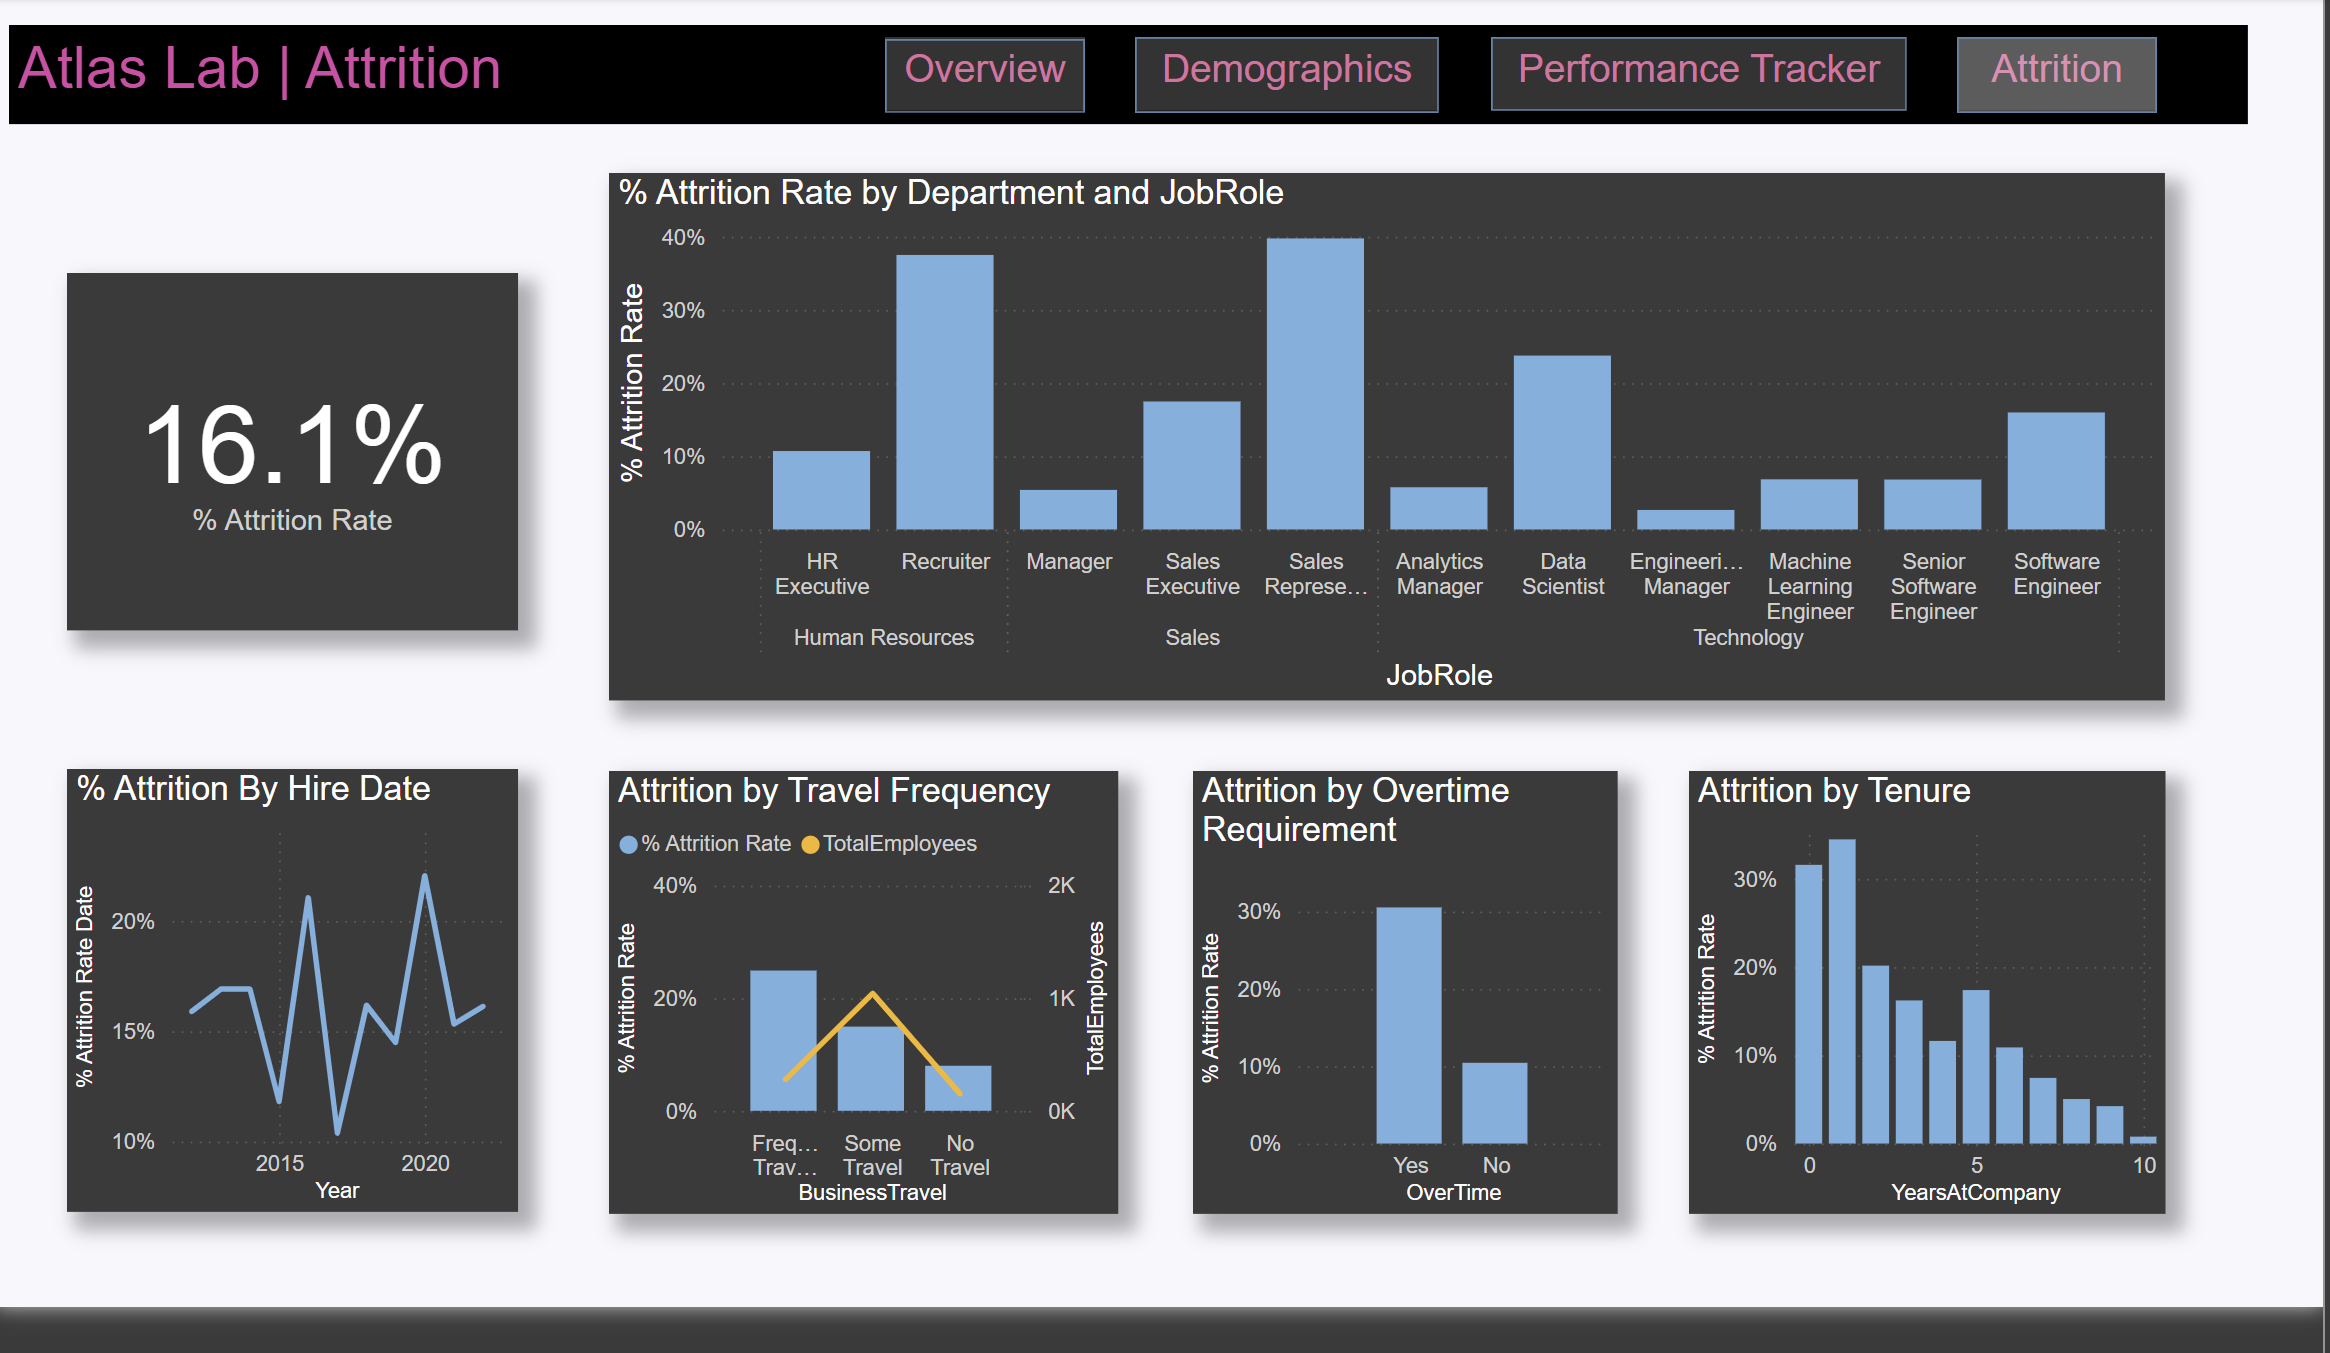

Layout of this report page (visuals, bound fields, positions):
{"tool":"powerbi","page":{"name":"Attrition","canvas":[1280,720],"ordinal":3},"visuals":[{"type":"group","id":"g1","title":"Group 3","box":[822.2,22.4,228.7,40.7],"z":0,"group":"g4"},{"type":"card","fields":{"Values":["_Measures.% Attrition Rate"]},"box":[40,152.2,247.8,196.7],"z":0},{"type":"shape","box":[822.2,22.4,228.7,40.7],"z":1000,"group":"g4"},{"type":"clusteredColumnChart","fields":{"Y":["_Measures.% Attrition Rate"],"Category":["DimEmployee.Department","DimEmployee.JobRole"]},"box":[337.8,96.7,855.6,290],"z":1000},{"type":"lineChart","title":"% Attrition By Hire Date","fields":{"Category":["DimDate.Date.Variation.Date Hierarchy.Year"],"Y":["_Measures.% Attrition Rate Date"]},"box":[40,424.4,247.8,243.3],"z":2000},{"type":"lineStackedColumnComboChart","title":"Attrition by Travel Frequency","fields":{"Y":["_Measures.% Attrition Rate"],"Y2":["_Measures.TotalEmployees"],"Category":["DimEmployee.BusinessTravel"]},"box":[337.8,425.6,280,243.3],"z":3000},{"type":"columnChart","title":"Attrition by Overtime Requirement","fields":{"Y":["_Measures.% Attrition Rate"],"Category":["DimEmployee.OverTime"]},"box":[658.9,425.6,233.3,243.3],"z":4000},{"type":"columnChart","title":"Attrition by Tenure","fields":{"Y":["_Measures.% Attrition Rate"],"Category":["DimEmployee.YearsAtCompany"]},"box":[931.1,425.6,262.2,243.3],"z":5000},{"type":"textbox","box":[7.8,15.6,1231.1,54.4],"z":6000},{"type":"group","id":"g2","title":"Group 1","box":[489.3,21.8,110,41.8],"z":7000},{"type":"textbox","box":[1078.8,21.6,110,40.7],"z":8000,"group":"g5"},{"type":"textbox","box":[489.3,21.8,110,40.7],"z":8000,"group":"g2"},{"type":"group","id":"g3","title":"Group 2","box":[627.2,21.8,167.1,41.8],"z":8000},{"type":"group","id":"g4","title":"Group 4","box":[822.2,22.4,228.7,40.7],"z":9000},{"type":"textbox","box":[822.2,22.4,228.7,40.7],"z":9000,"group":"g1"},{"type":"group","id":"g5","title":"Group 5","box":[1078.8,21.6,110,42.2],"z":10000},{"type":"textbox","box":[627.2,21.8,167.1,40.7],"z":11000,"group":"g3"},{"type":"shape","box":[489.3,22.3,110,40.7],"z":12000,"group":"g2"},{"type":"shape","box":[627.2,21.8,167.1,41.8],"z":12002,"group":"g3"},{"type":"shape","box":[1078.8,22,110,41.8],"z":13000,"group":"g5"}]}

Visuals, with their boxes on the page's 1280x720 design canvas (x1, y1, x2, y2). These are canvas units, not pixel positions in the 2330x1353 screenshot, which may show the page scaled, cropped or inside an application window:
"Group 3" group: locate(822, 22, 1051, 63)
card - _Measures.% Attrition Rate: locate(40, 152, 288, 349)
shape: locate(822, 22, 1051, 63)
clusteredColumnChart - _Measures.% Attrition Rate x DimEmployee.Department: locate(338, 97, 1193, 387)
"% Attrition By Hire Date" lineChart: locate(40, 424, 288, 668)
"Attrition by Travel Frequency" lineStackedColumnComboChart: locate(338, 426, 618, 669)
"Attrition by Overtime Requirement" columnChart: locate(659, 426, 892, 669)
"Attrition by Tenure" columnChart: locate(931, 426, 1193, 669)
textbox: locate(8, 16, 1239, 70)
"Group 1" group: locate(489, 22, 599, 64)
textbox: locate(1079, 22, 1189, 62)
textbox: locate(489, 22, 599, 62)
"Group 2" group: locate(627, 22, 794, 64)
"Group 4" group: locate(822, 22, 1051, 63)
textbox: locate(822, 22, 1051, 63)
"Group 5" group: locate(1079, 22, 1189, 64)
textbox: locate(627, 22, 794, 62)
shape: locate(489, 22, 599, 63)
shape: locate(627, 22, 794, 64)
shape: locate(1079, 22, 1189, 64)
